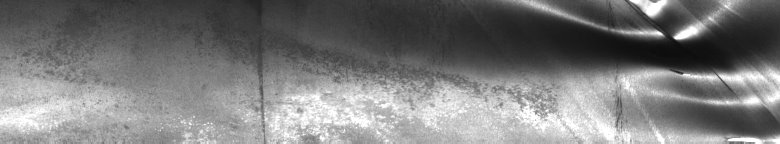ke: (511, 4, 776, 136)
